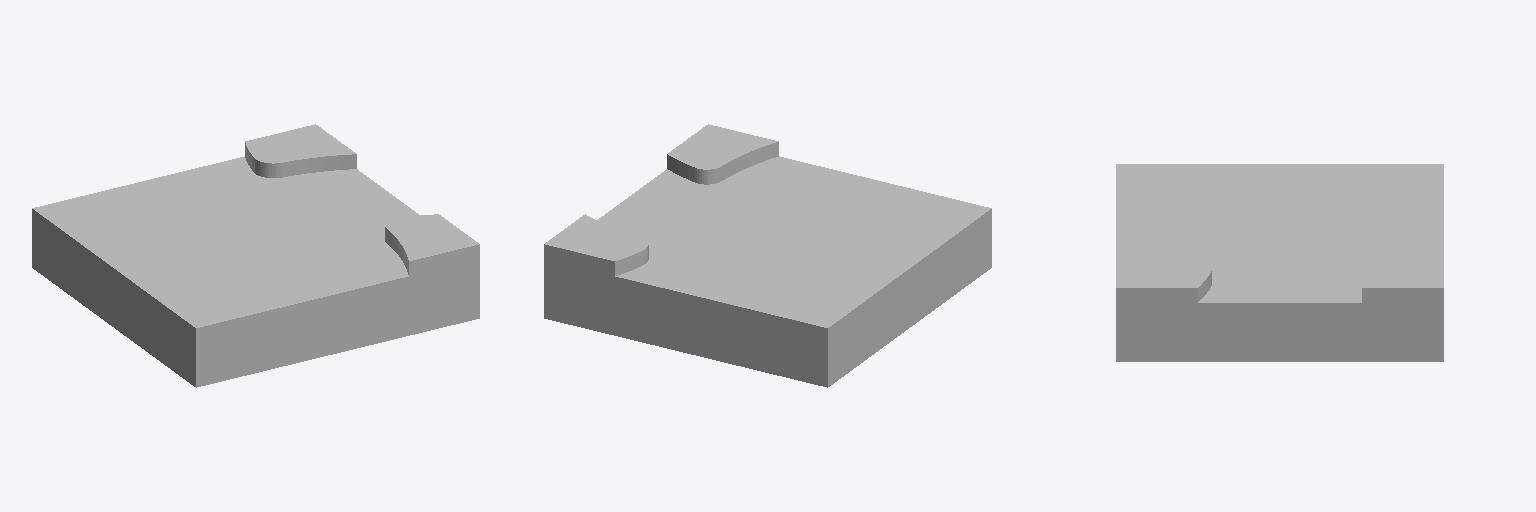
File: ground_dirtRiverEntrance.obj
The picture shows the model from 3 angles: view 1: azimuth 30°, elevation 25°; view 2: azimuth 150°, elevation 25°; view 3: azimuth 270°, elevation 25°; orthographic projection.
Parts seen in each view (by area): view 1: ground_dirtRiverEntrance; view 2: ground_dirtRiverEntrance; view 3: ground_dirtRiverEntrance.
Part boxes in pixels (left/top/right/bottom): ground_dirtRiverEntrance: left=32, top=124, right=479, bottom=387; ground_dirtRiverEntrance: left=544, top=124, right=991, bottom=387; ground_dirtRiverEntrance: left=1116, top=164, right=1443, bottom=361.
Size of the model in its own units: 10 by 2.5 by 10.